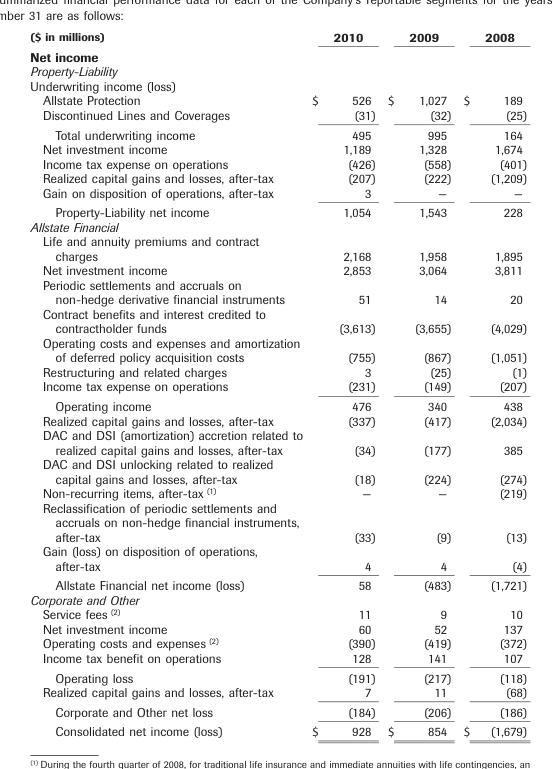table: (29, 28, 526, 738)
table column: (29, 28, 306, 738), (380, 28, 456, 738), (306, 28, 380, 738), (456, 28, 526, 738)
table column header: (29, 28, 526, 46)
table projected row header: (29, 46, 526, 63), (29, 63, 526, 78), (29, 78, 526, 92), (29, 219, 526, 233), (29, 592, 526, 606)
table row: (29, 500, 526, 543), (29, 543, 526, 575), (29, 233, 526, 262), (29, 277, 526, 306), (29, 306, 526, 335), (29, 335, 526, 364), (29, 427, 526, 456), (29, 456, 526, 485), (29, 701, 526, 721), (29, 28, 526, 46), (29, 395, 526, 413), (29, 46, 526, 63), (29, 107, 526, 124), (29, 124, 526, 141), (29, 185, 526, 202), (29, 202, 526, 219), (29, 378, 526, 395), (29, 575, 526, 592), (29, 650, 526, 667), (29, 667, 526, 684), (29, 684, 526, 701), (29, 721, 526, 738), (29, 63, 526, 78), (29, 92, 526, 107), (29, 141, 526, 156), (29, 170, 526, 185), (29, 262, 526, 277), (29, 485, 526, 500), (29, 606, 526, 621), (29, 635, 526, 650), (29, 78, 526, 92), (29, 156, 526, 170), (29, 219, 526, 233), (29, 364, 526, 378), (29, 413, 526, 427), (29, 592, 526, 606), (29, 621, 526, 635)
